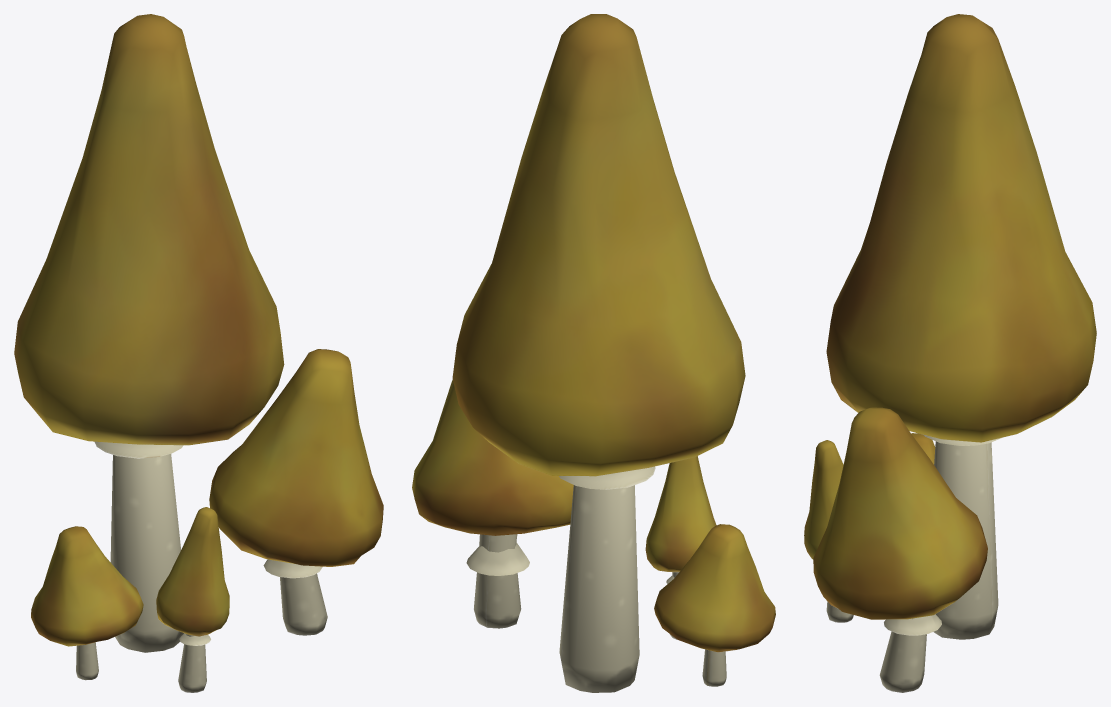
The model's file is mushroom7.glb.
3 renders of one model, left to right at view 1: azimuth 30°, elevation 25°; view 2: azimuth 150°, elevation 25°; view 3: azimuth 270°, elevation 25°, orthographic. The views are drawn at different scales.
Parts seen in each view (by area): view 1: Object_8; view 2: Object_8; view 3: Object_8.
Part boxes in pixels (x1,y1,x2,y2): Object_8: (14, 14, 383, 692); Object_8: (412, 14, 775, 692); Object_8: (804, 14, 1096, 692).
Bounding box in the file's own units: 0.5768 × 1.05 × 0.4568.
Materials: 1 (1 with a texture image).
